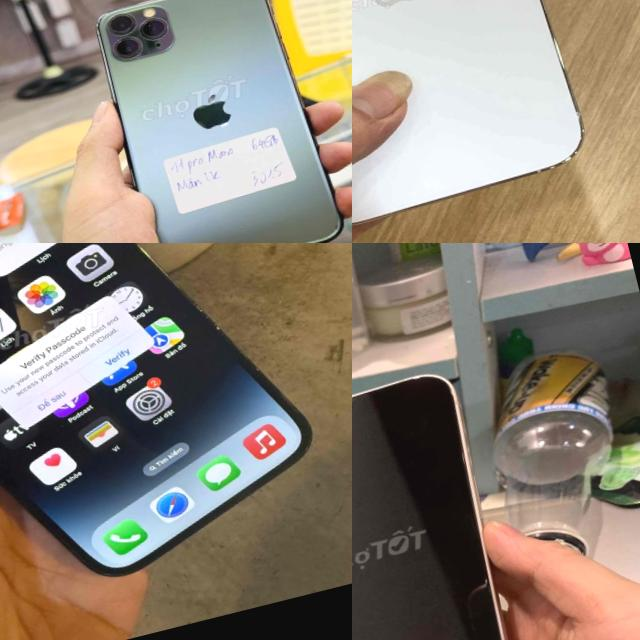gen_11: (97, 0, 341, 243)
gen_12_13: (352, 365, 545, 640)
gen_14: (0, 243, 339, 640), (352, 0, 601, 243)
